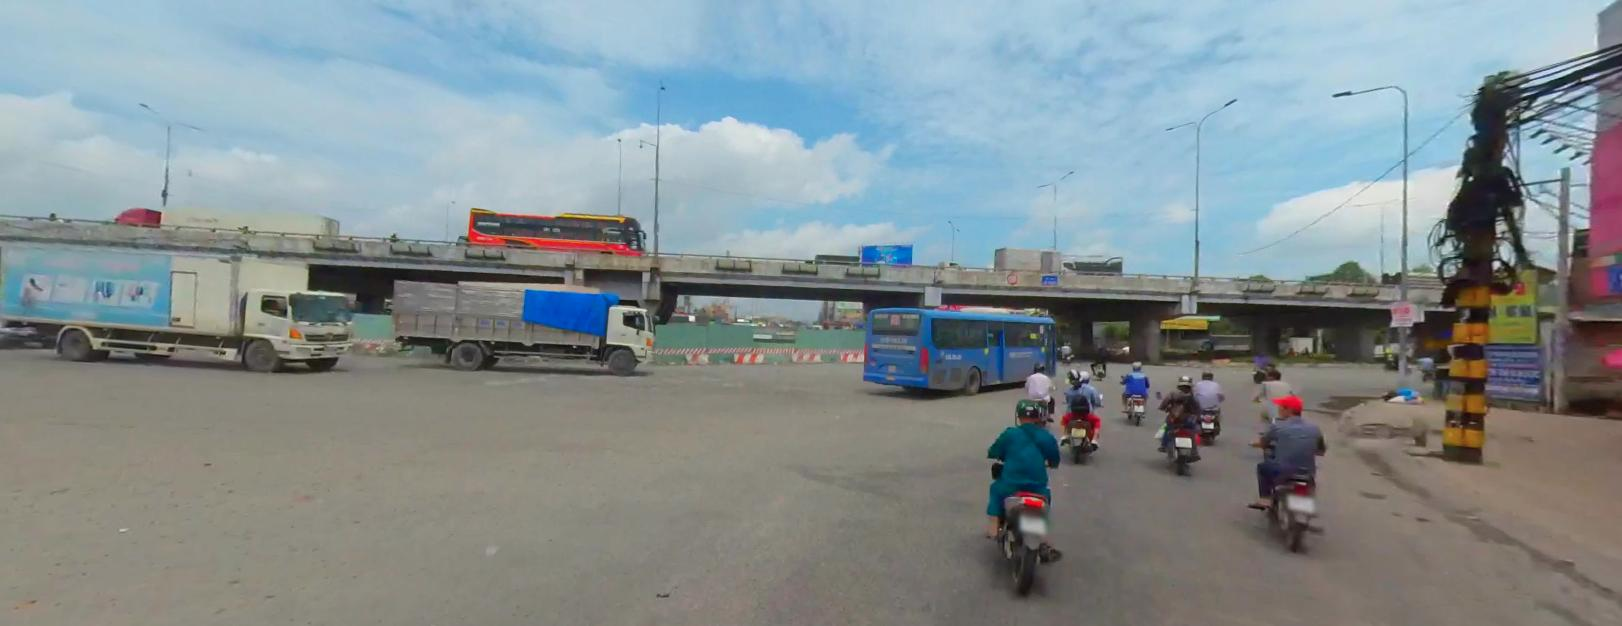Cam con lai: (1005, 272, 1017, 284)
